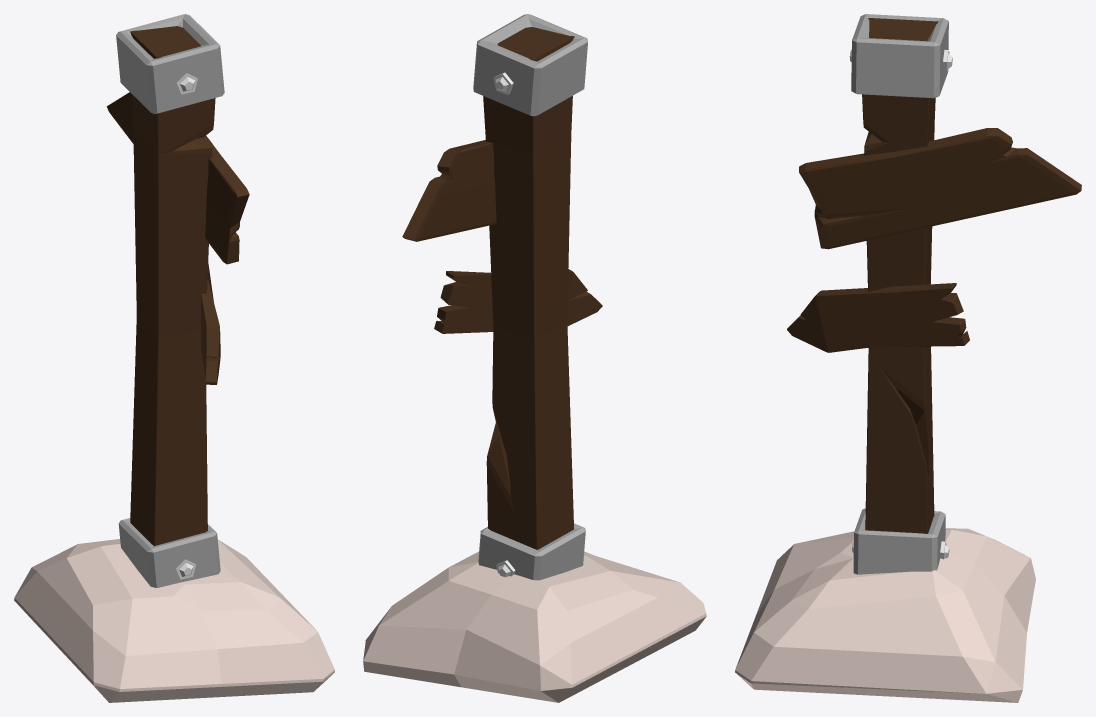
File: Sign post.fbx
3 renders of one model, left to right at view 1: azimuth 30°, elevation 25°; view 2: azimuth 150°, elevation 25°; view 3: azimuth 270°, elevation 25°, orthographic.
Parts seen in each view (by area): view 1: Cube.048, Cube.047, Cube.052, Cube.050, Cube.051, Cube.049; view 2: Cube.047, Cube.048, Cube.052, Cube.050, Cube.049, Cube.051; view 3: Cube.048, Cube.047, Cube.050, Cube.049, Cube.052, Cube.051.
Boxes of the visible parts, x1,y1,x2,y2 form: Cube.048: [14, 539, 334, 702]; Cube.047: [130, 26, 215, 545]; Cube.052: [116, 14, 224, 113]; Cube.050: [107, 92, 249, 264]; Cube.051: [118, 518, 220, 587]; Cube.049: [201, 264, 220, 384]; Cube.047: [483, 27, 574, 549]; Cube.048: [363, 551, 706, 702]; Cube.052: [473, 14, 587, 116]; Cube.050: [402, 140, 496, 241]; Cube.049: [434, 269, 602, 333]; Cube.051: [478, 523, 585, 580]; Cube.048: [735, 528, 1035, 702]; Cube.047: [862, 18, 938, 533]; Cube.050: [799, 128, 1081, 249]; Cube.049: [787, 283, 969, 352]; Cube.052: [851, 14, 948, 98]; Cube.051: [853, 508, 945, 574].
Bounding box in the file's own units: 65.19 × 156 × 78.08.
